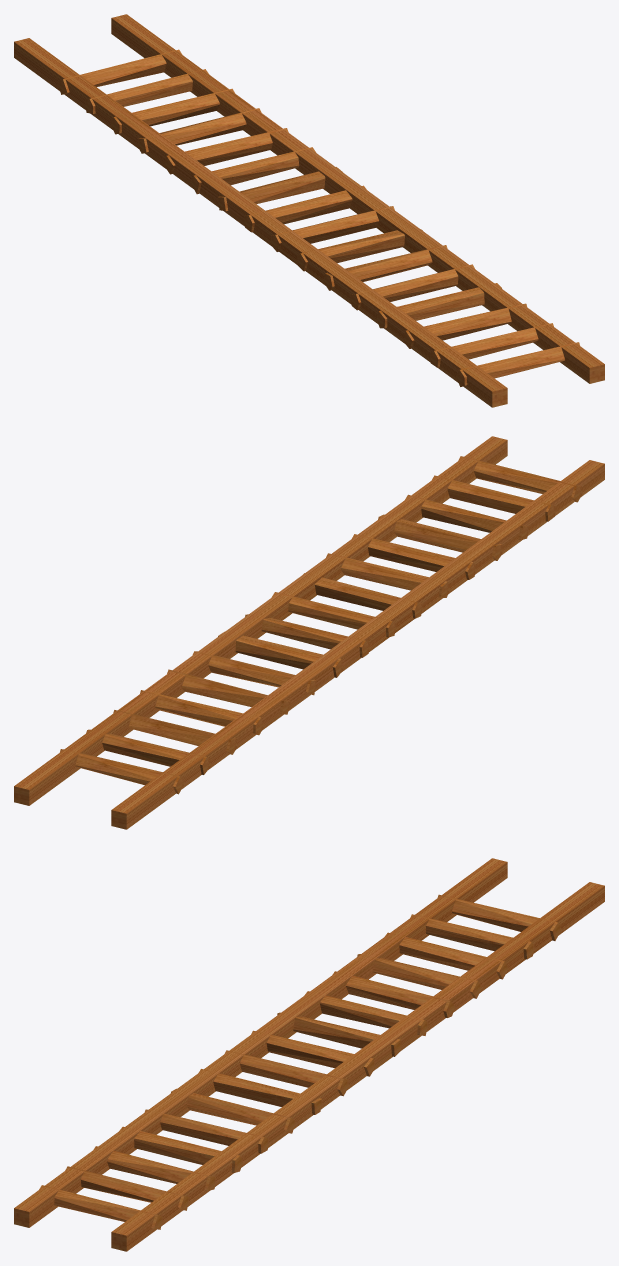
The model's file is Ladder.fbx.
3 views of the same model, one above another, from view 1: azimuth 30°, elevation 25°; view 2: azimuth 150°, elevation 25°; view 3: azimuth 330°, elevation 25° (orthographic).
Parts seen in each view (by area): view 1: Ladder; view 2: Ladder; view 3: Ladder.
Part boxes in pixels (x1,y1,x2,y2): Ladder: (14,14,604,407); Ladder: (14,436,604,829); Ladder: (14,858,604,1251).
Bounding box in the file's own units: 765 × 108 × 5374.
1 material, 1 textured.
